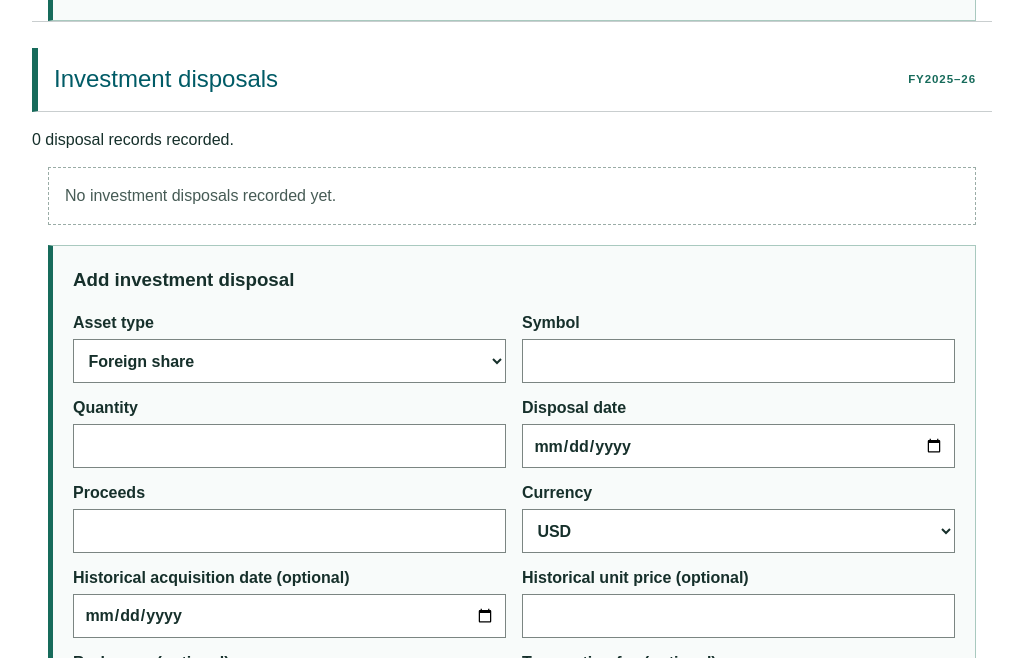
Scenario: ReturnReady sparse draft workflow › rejects a disposal date outside FY2025-26 and keeps the draft unchanged
(page scrolled)
Type "MSFT" into the field labelled "Symbol". click: (738, 362)
box: 522,340 -> 955,384
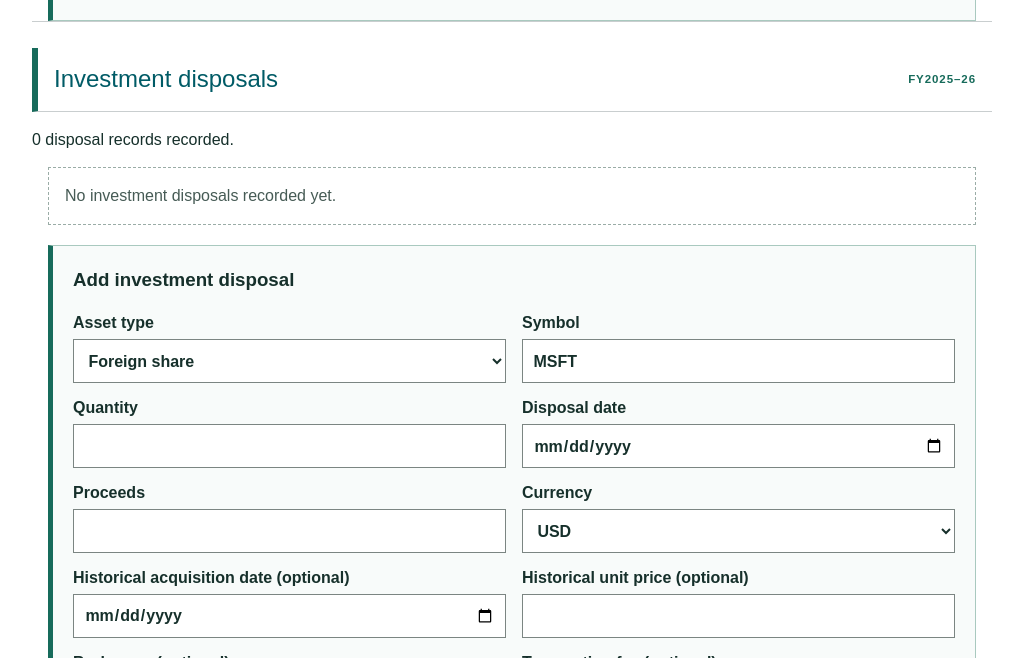
Type "1" into the number field labelled "Quantity". click: (290, 446)
box: 73,424 -> 506,468
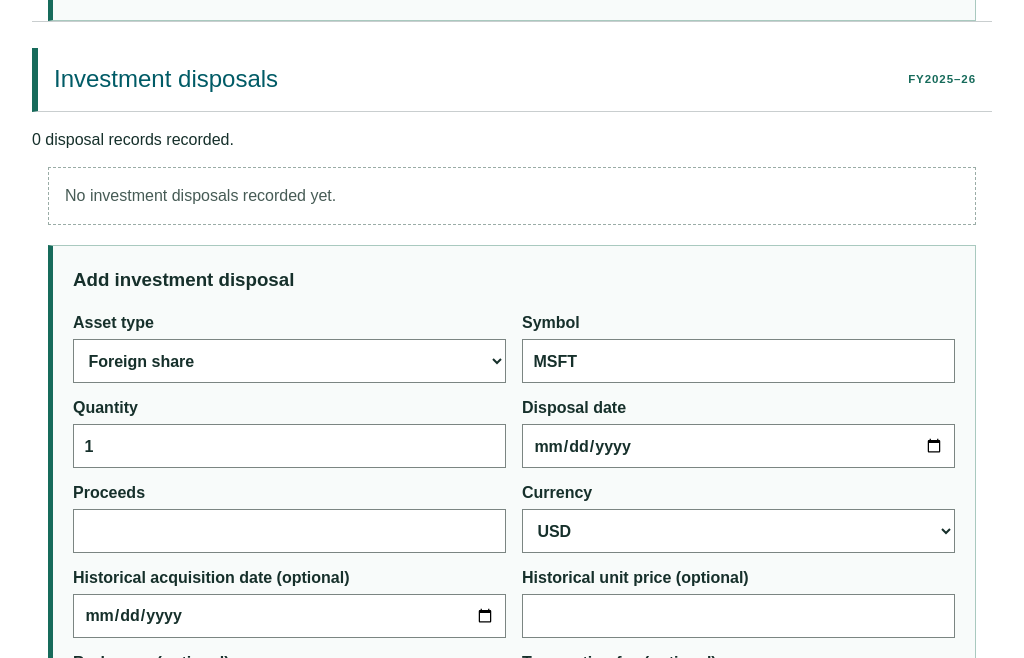
Type "2025-06-30" into the date field labelled "Disposal date". click: (738, 446)
box: 522,424 -> 955,468
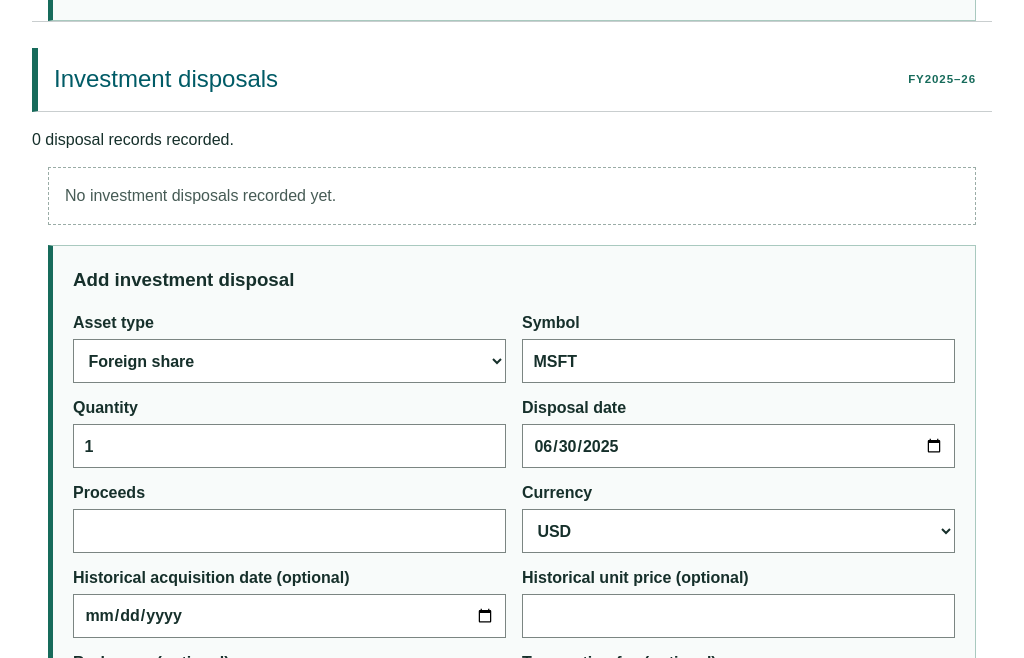
Type "100" into the number field labelled "Proceeds". click: (290, 531)
box: 73,509 -> 506,553
(page scrolled)
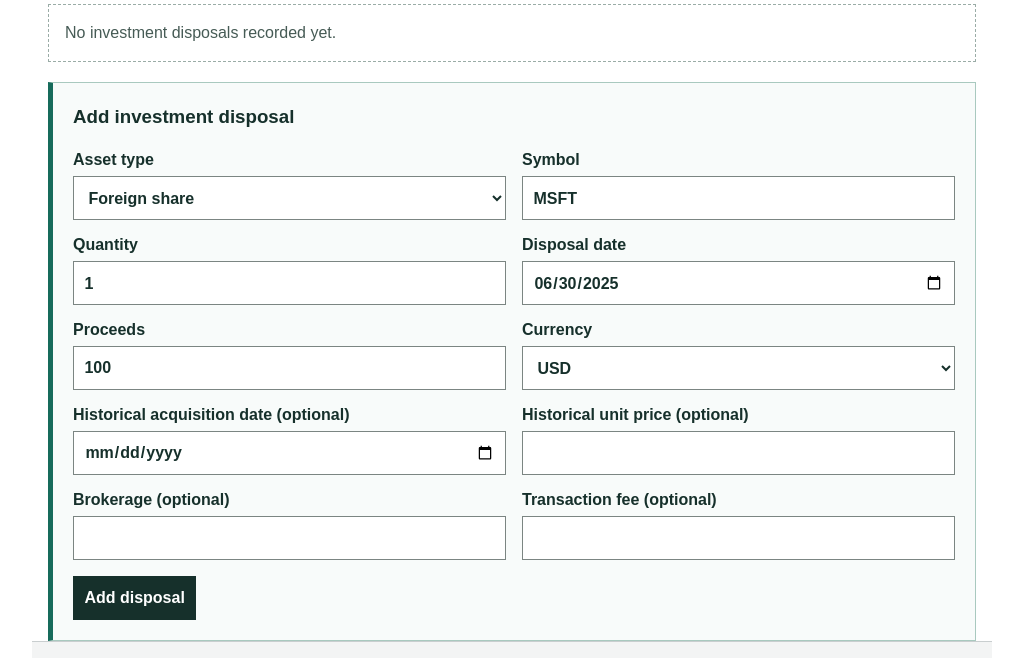
Submit the form "Add investment disposal"
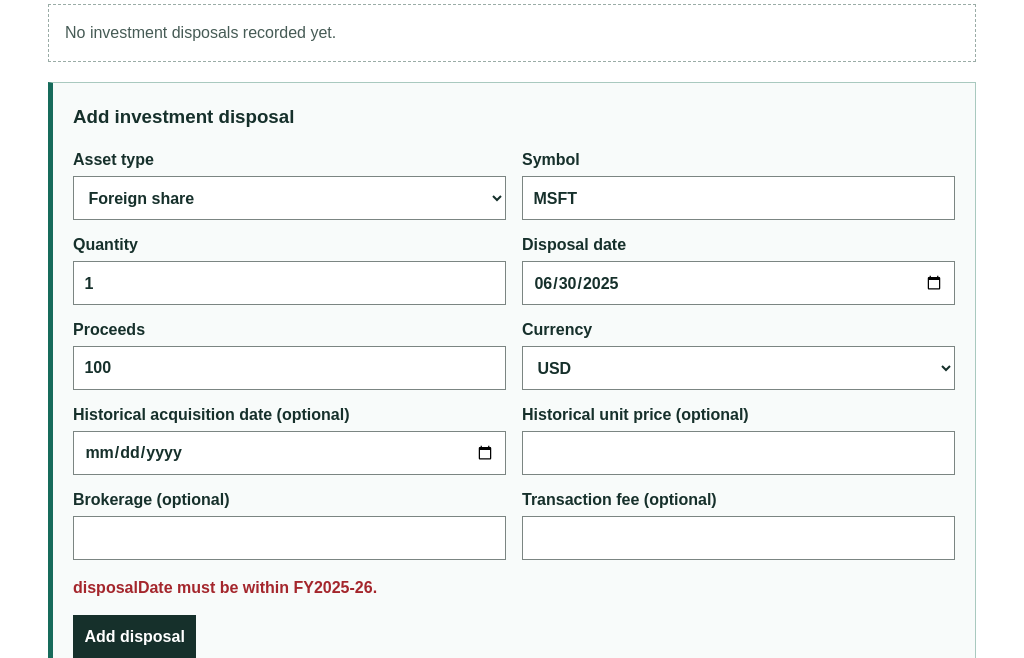
Expected: the text "No investment disposals recorded yet." is shown, 48,4 -> 976,62
Expected: the message shows "disposalDate", 73,579 -> 377,596
